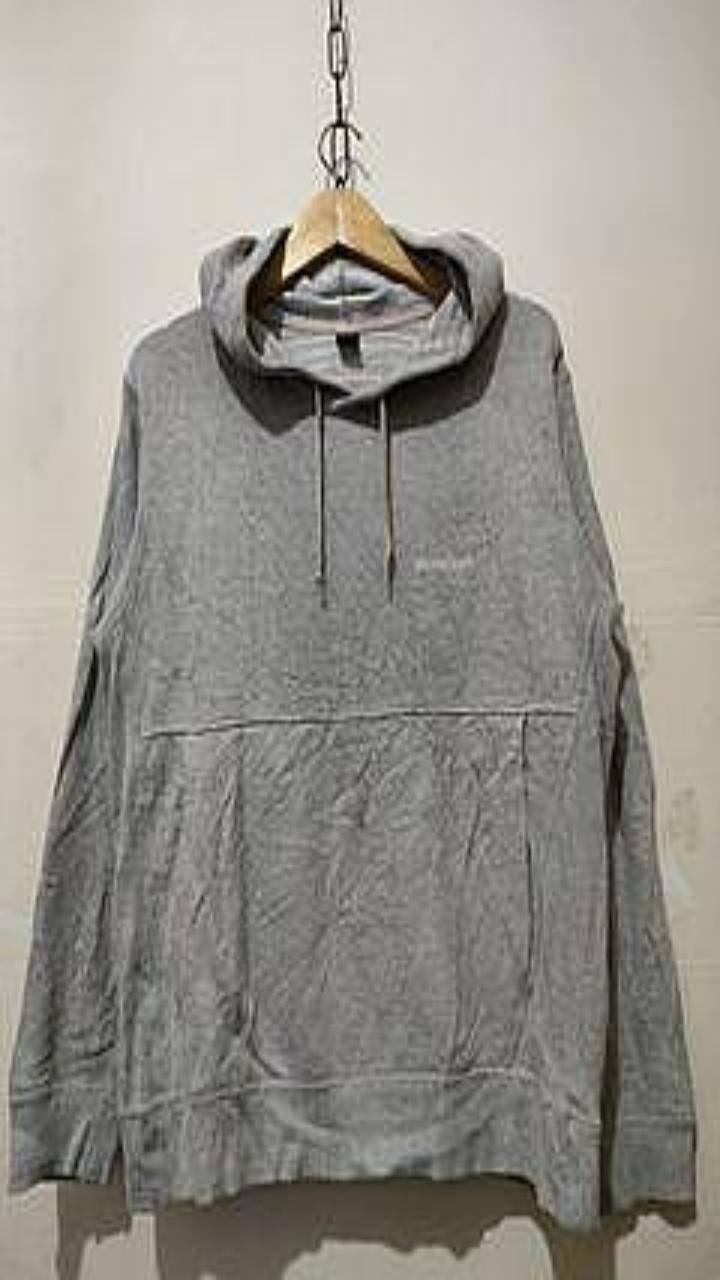Hoodie: (8, 226, 694, 1229)
